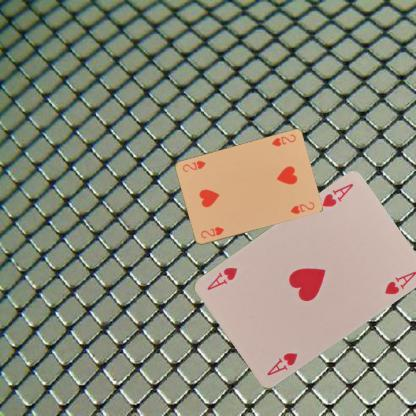2h: (268, 132, 298, 148), (198, 224, 226, 240)
Ah: (320, 180, 354, 210), (264, 350, 299, 378)
